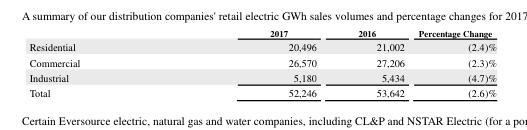table: (28, 28, 495, 98)
table column: (174, 28, 336, 98), (28, 28, 174, 98), (410, 28, 495, 98), (336, 28, 410, 98)
table column header: (28, 28, 495, 40)
table row: (28, 40, 495, 55), (28, 55, 495, 70), (28, 70, 495, 85), (28, 85, 495, 98), (28, 28, 495, 40)
